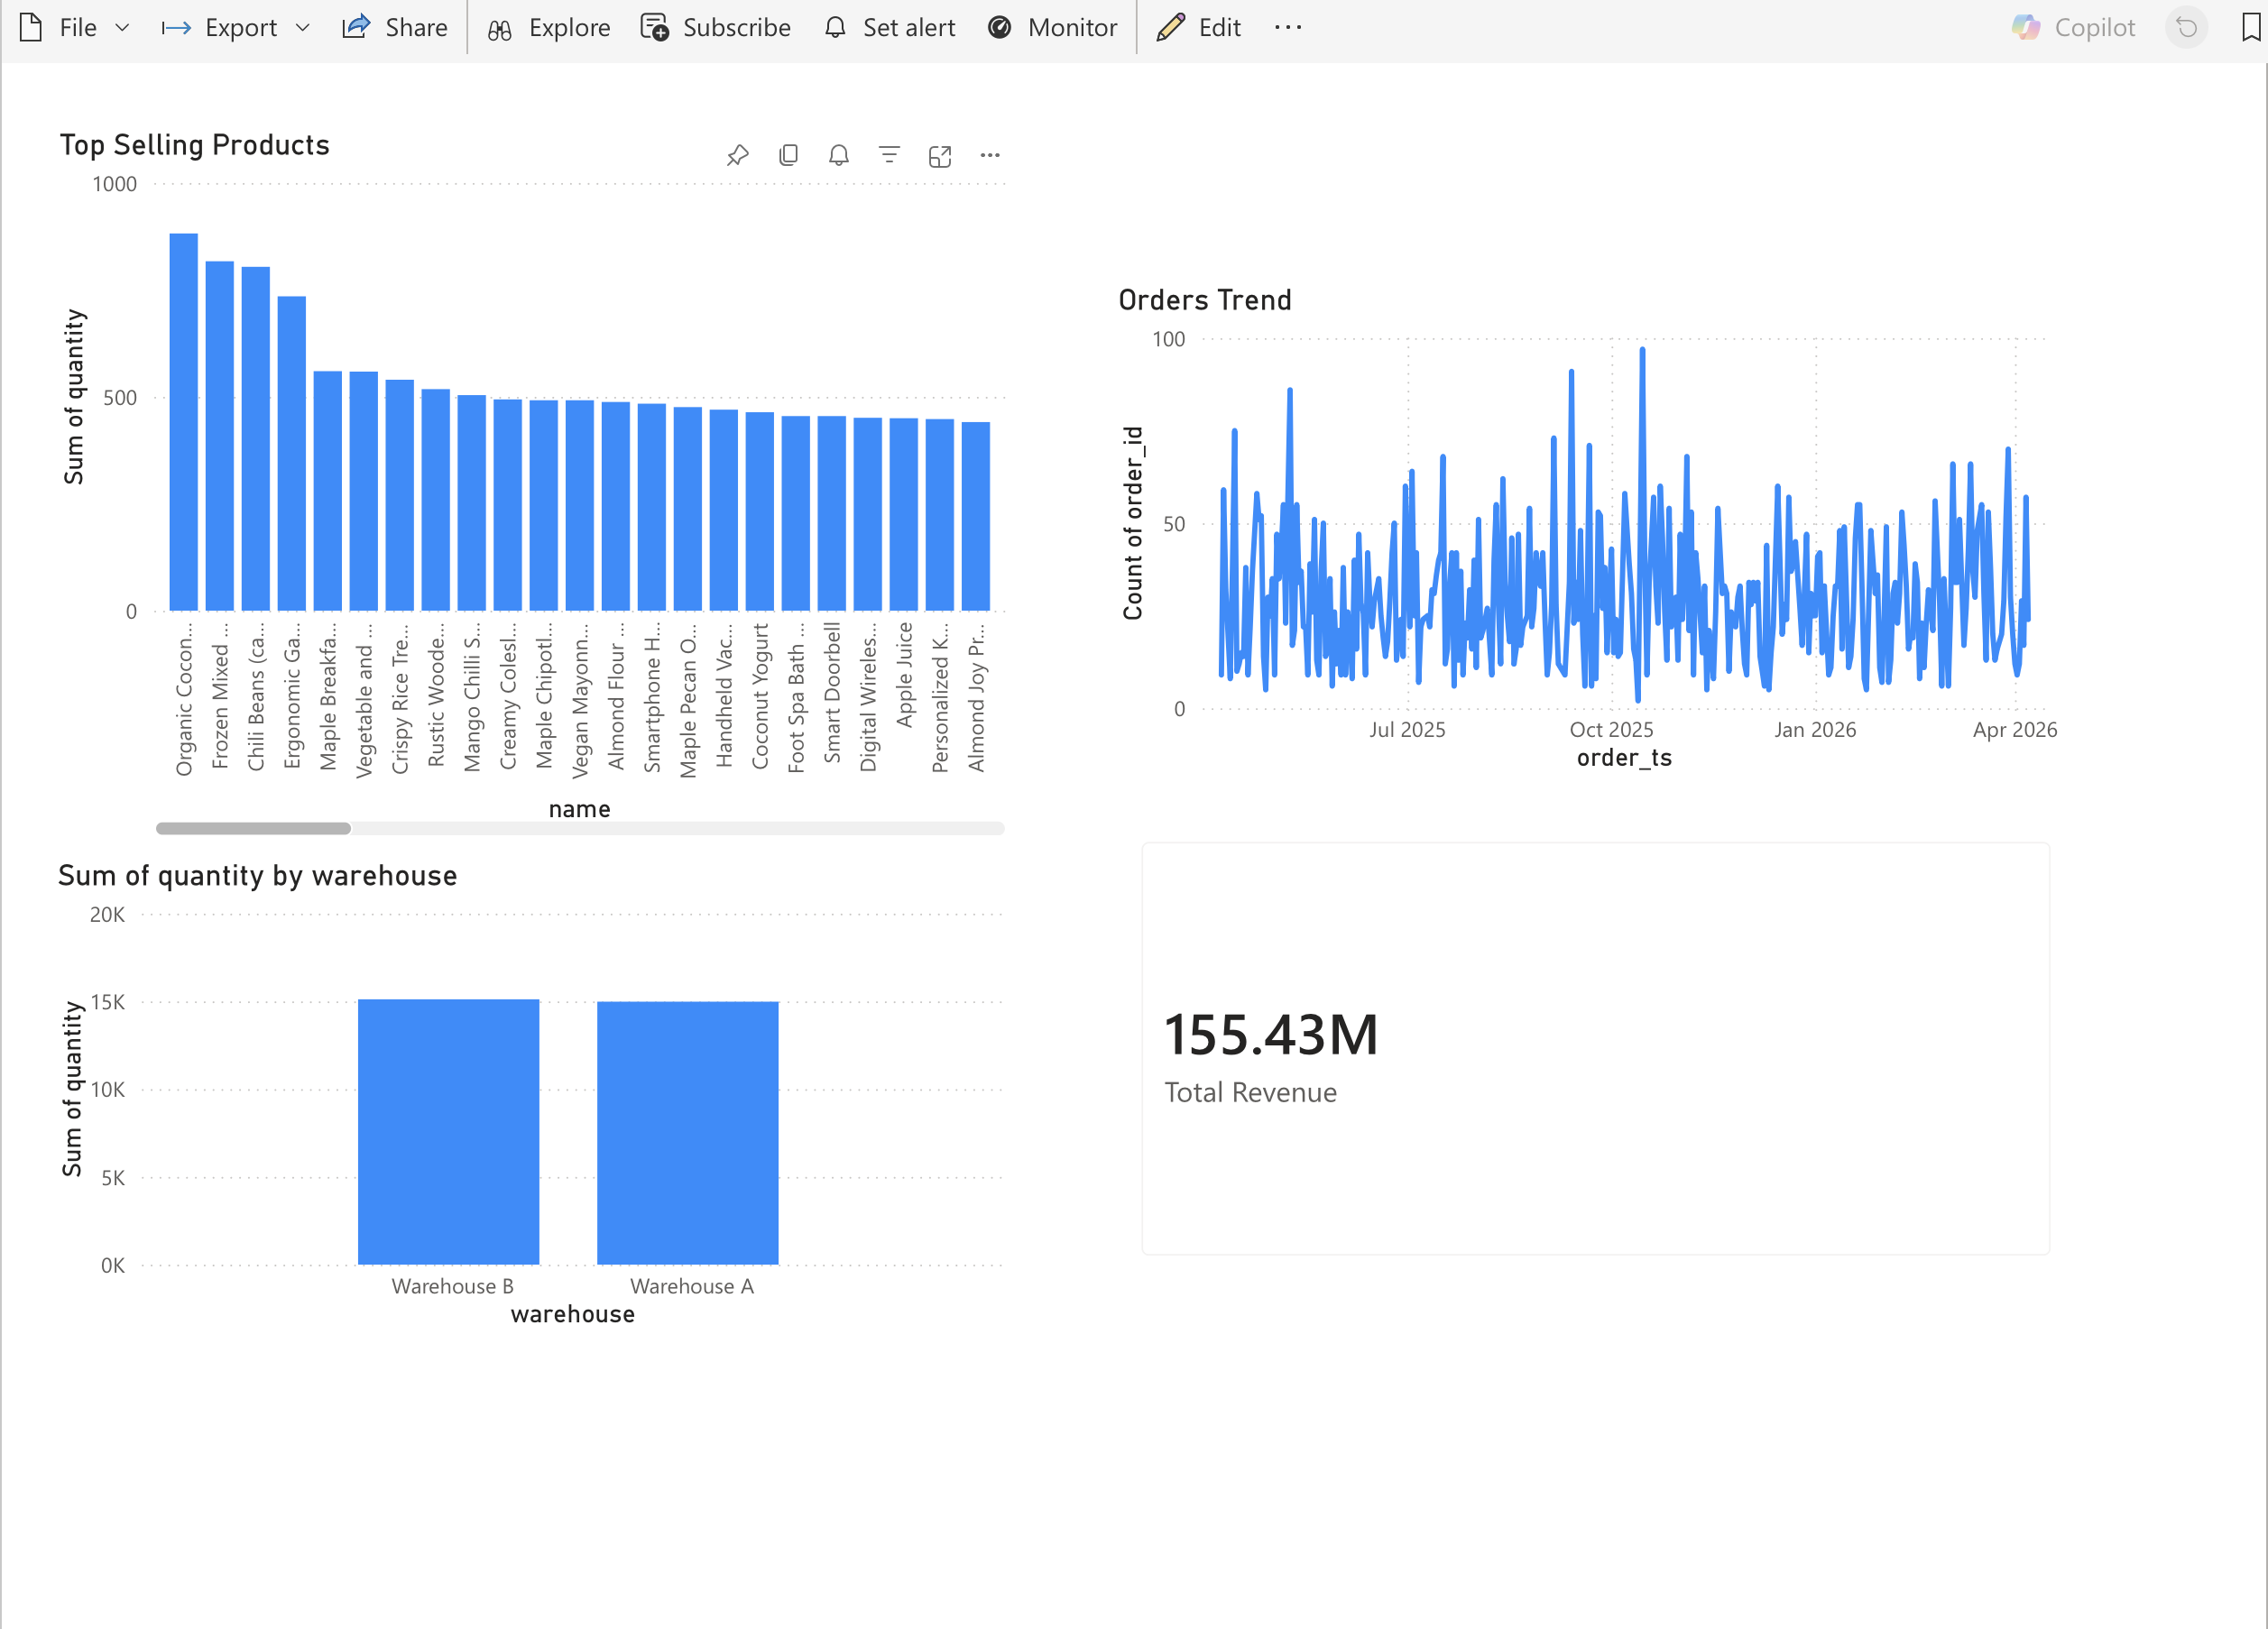

This screenshot's page, from the dashboard's own definition file:
{"tool":"powerbi","page":{"name":"Page 1","canvas":[1280,720],"ordinal":0},"visuals":[{"type":"columnChart","title":"Top Selling Products","fields":{"Category":["dim_products.name"],"Y":["Sum(fact_orders.quantity)"]},"box":[27.3,39.1,544.5,403.3],"z":0},{"type":"lineChart","title":"Orders Trend","fields":{"Category":["fact_orders.order_ts"],"Y":["CountNonNull(fact_orders.order_id)"]},"box":[626.4,126.9,549.2,278.8],"z":1},{"type":"columnChart","fields":{"Category":["fact_orders.warehouse"],"Y":["Sum(fact_orders.quantity)"]},"box":[27,452,545,268],"z":2},{"type":"cardVisual","fields":{"Data":["fact_orders.Total Revenue"]},"box":[627.5,423.5,548.1,268.1],"z":3}]}

Visuals, with their boxes on the page's 1280x720 design canvas (x1, y1, x2, y2). These are canvas units, not pixel positions in the 2268x1629 screenshot, which may show the page scaled, cropped or inside an application window:
"Top Selling Products" columnChart: l=27, t=39, r=572, b=442
"Orders Trend" lineChart: l=626, t=127, r=1176, b=406
columnChart - fact_orders.warehouse x Sum(fact_orders.quantity): l=27, t=452, r=572, b=720
cardVisual - fact_orders.Total Revenue: l=628, t=424, r=1176, b=692
